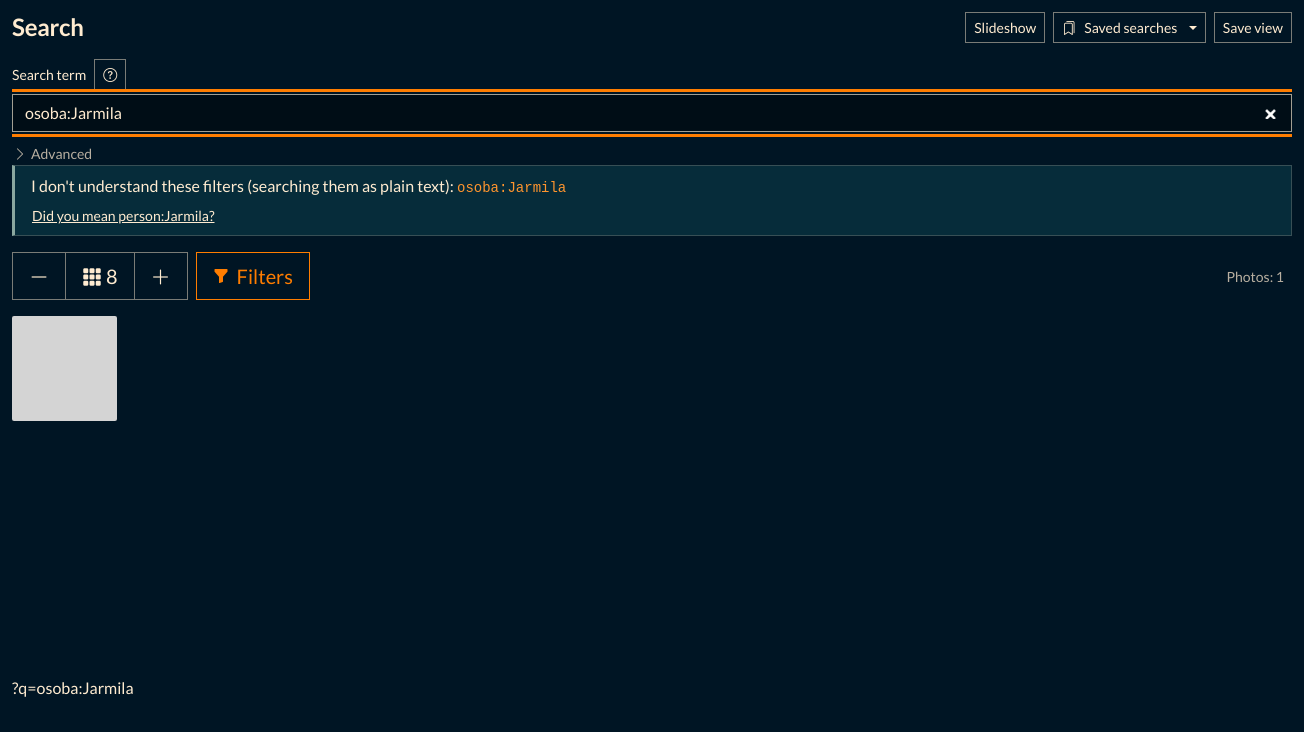
it: SearchPage › repairs a mistyped filter key in the box and re-runs the search with it
This screenshot has width=1304, height=732.
What coordinates should you click on to do the following:
click the button "Did you mean person:Jarmila?"
I would click on:
 (123, 216)
Its box is [31,204,216,228].
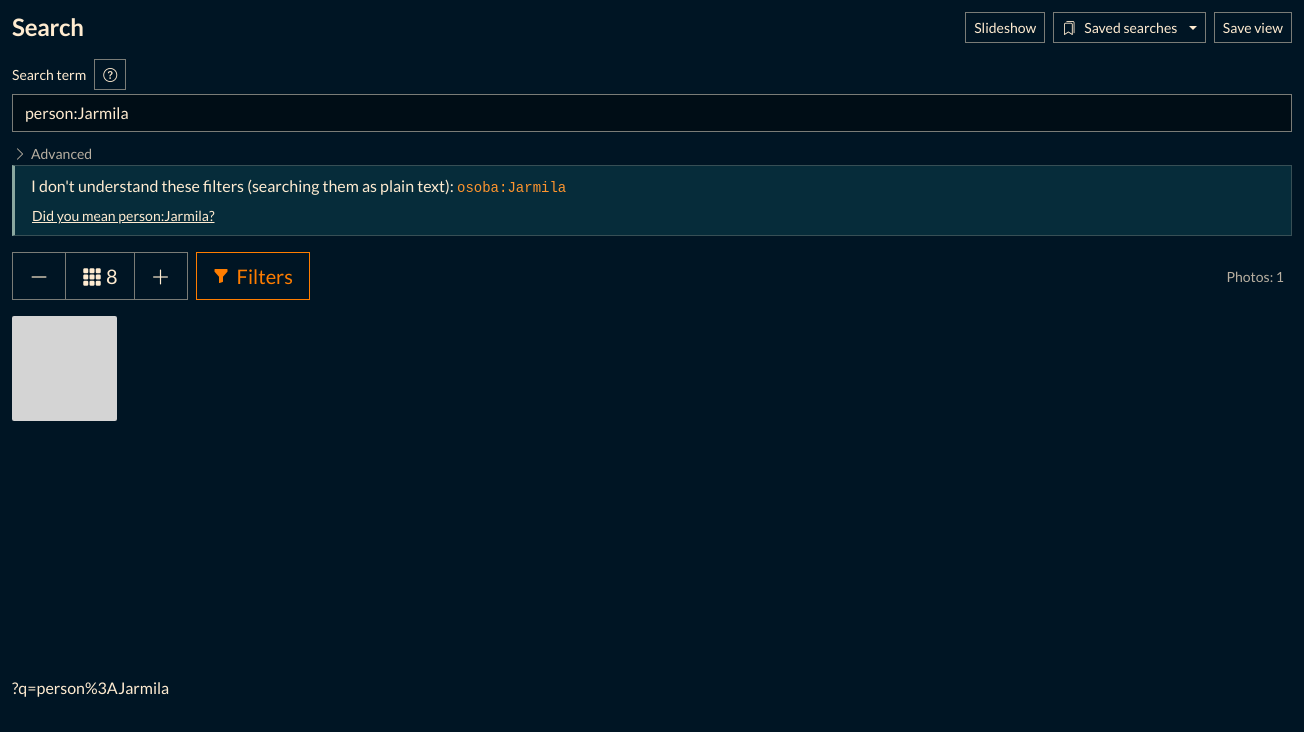
Expected: the text with test id "search" shows "q=person%3AJarmila", [12,678,169,698]
Expected: the dropdown labelled "Search term" holds "person:Jarmila", [12,94,1292,132]
